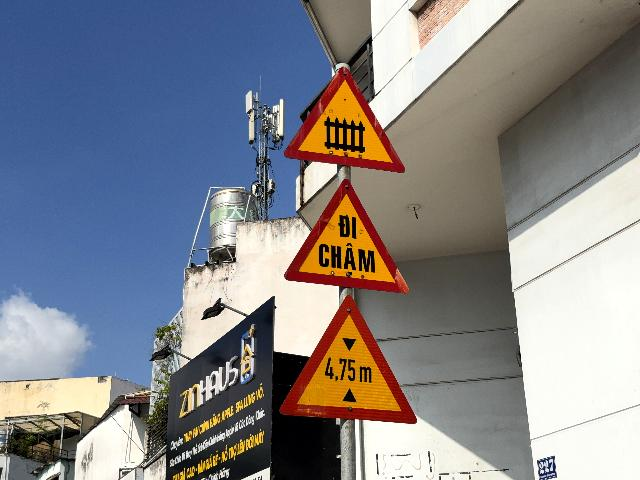chieu-cao-tinh-khong-thuc-te: (278, 294, 418, 425)
di-cham: (283, 178, 411, 294)
noi-giao-nhau-voi-duong-sat-co-rao-chan: (284, 66, 406, 174)
